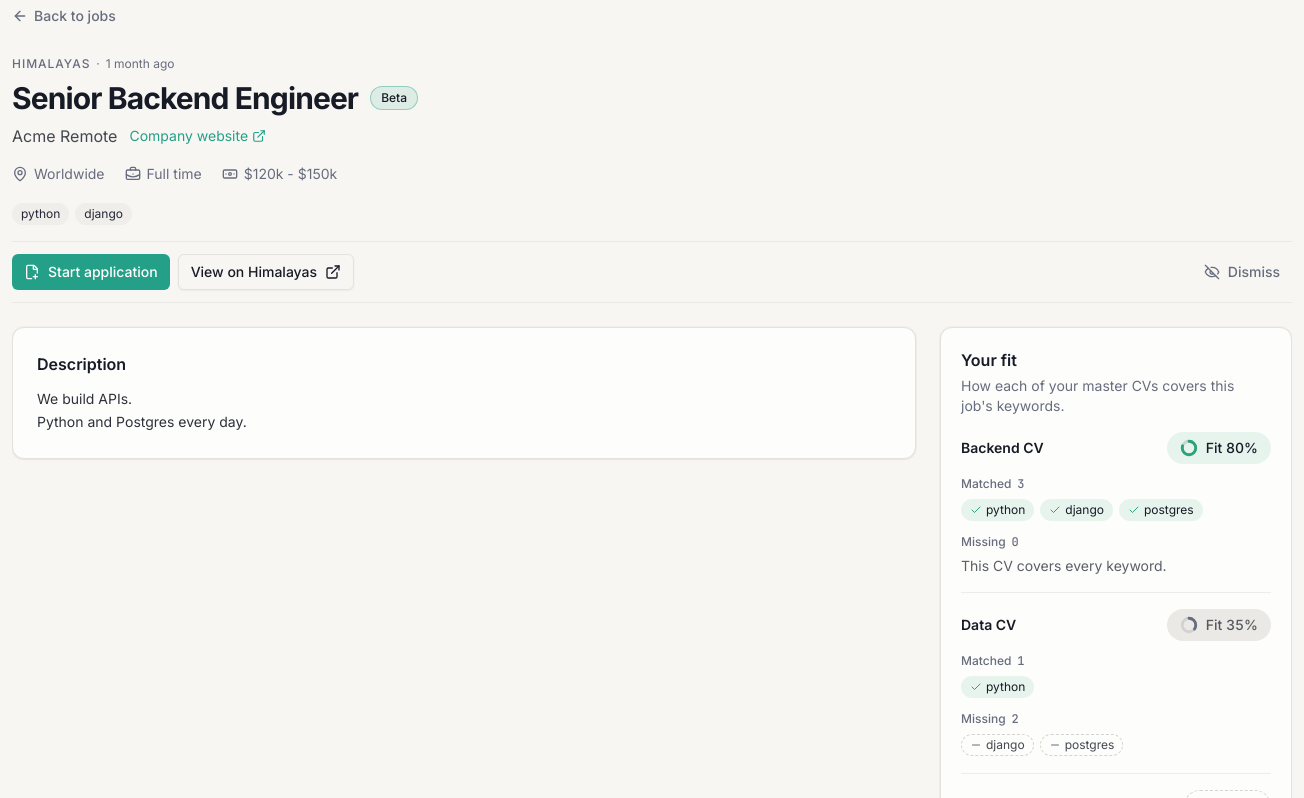
it: /jobs/view: actions › dismisses and restores in place (AC10)
Step 1. Click the button "Dismiss" → (1242,272), box [1192,254,1292,290]
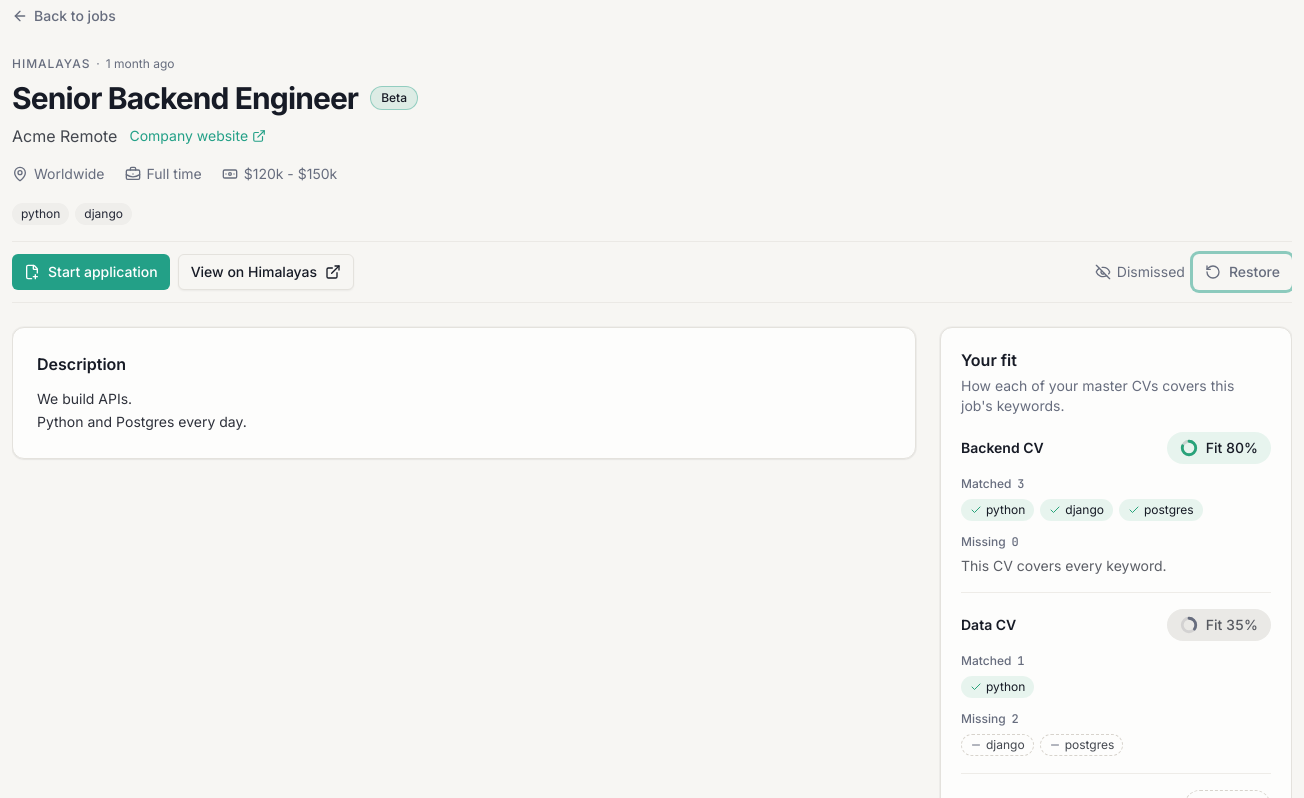
Result: the text "Dismissed" is shown at [1095,262,1185,282]
Step 2. Click the button "Restore" → (1242,272), box [1193,254,1292,290]
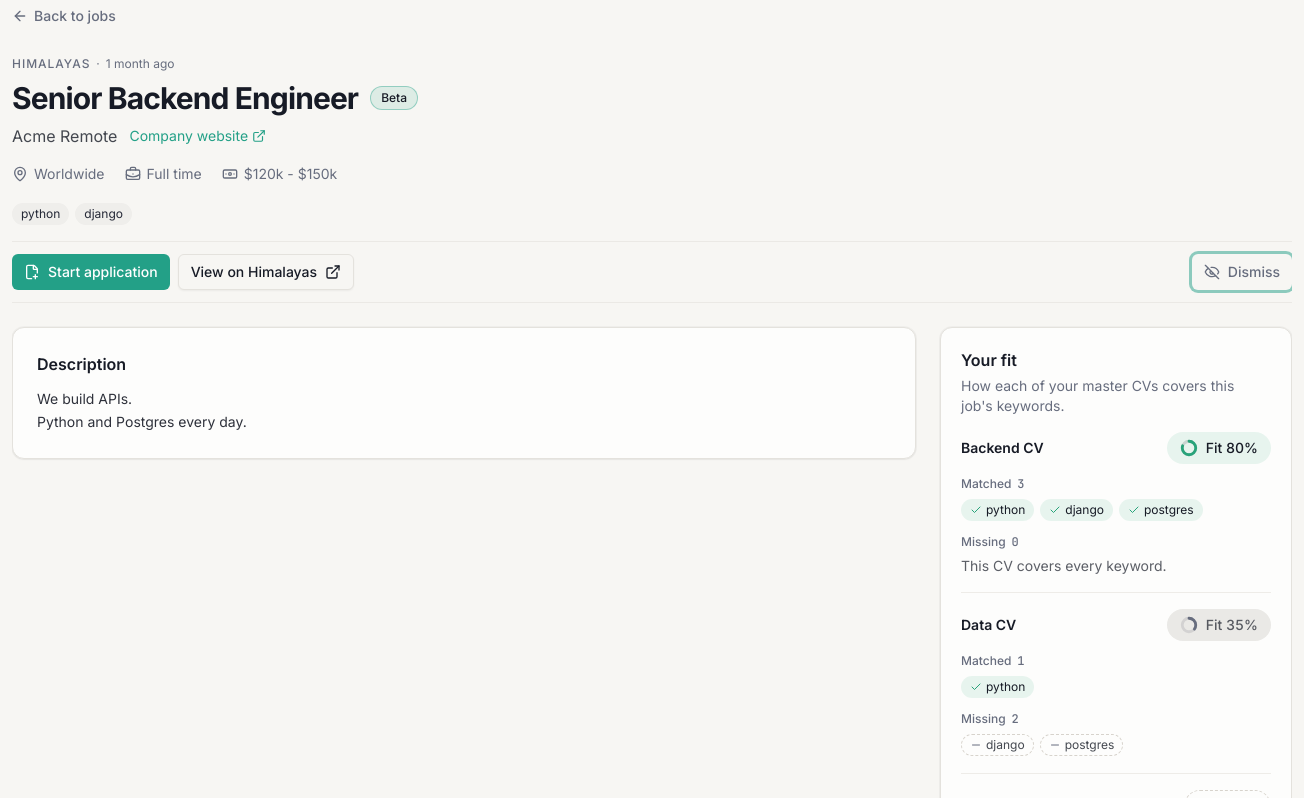
Result: the button "Dismiss" is shown at [1192,254,1292,290]
